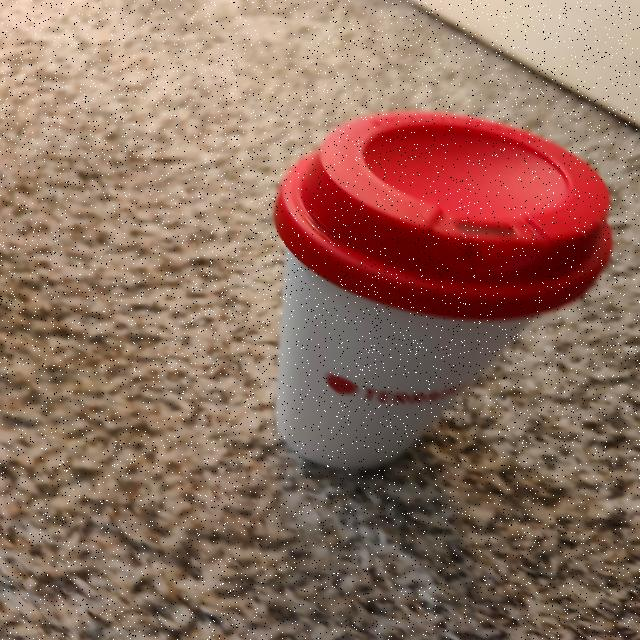mug: (268, 118, 611, 459)
